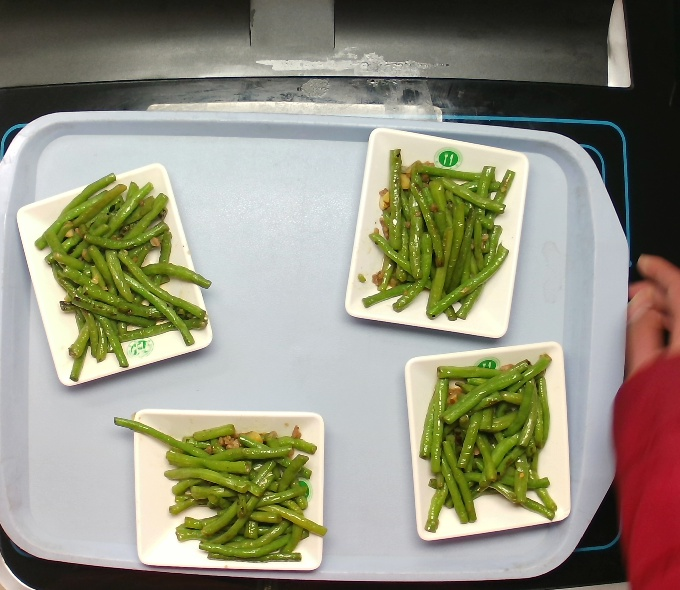wcq-RouMoJiangDou: (42, 164, 206, 394), (349, 131, 529, 335), (406, 346, 568, 538), (137, 415, 325, 569)
